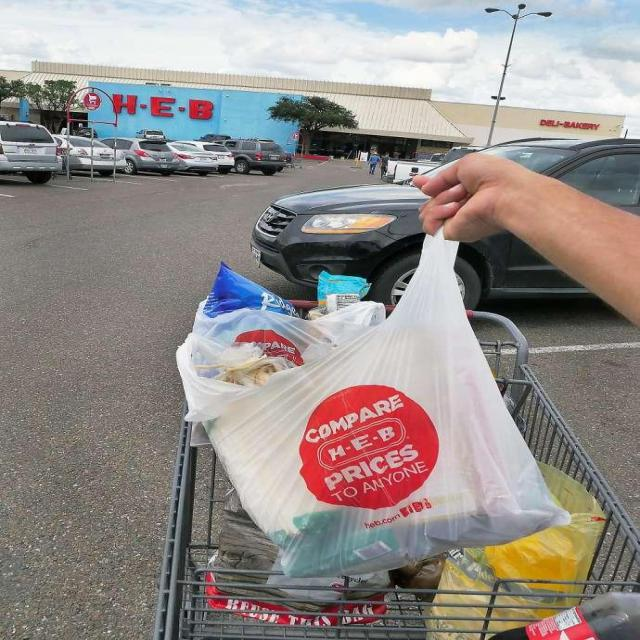plastic_bag: (163, 231, 571, 567), (461, 474, 599, 640), (192, 255, 342, 390)
plastic_bottle: (489, 581, 640, 640)
